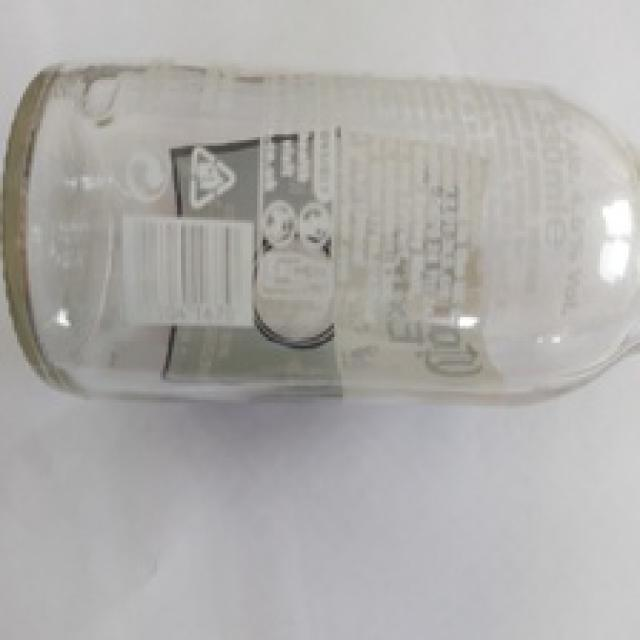garbage: (0, 52, 640, 410)
